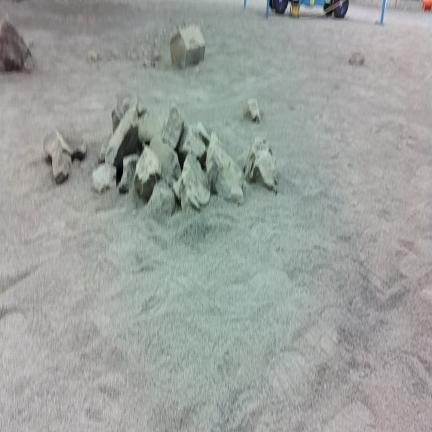Rock: (206, 133, 244, 204), (105, 105, 140, 167), (174, 155, 210, 210), (0, 15, 33, 72), (244, 138, 277, 191), (135, 146, 161, 203), (150, 137, 181, 184), (171, 26, 205, 68), (112, 92, 146, 132), (44, 130, 86, 160), (179, 127, 206, 167), (139, 108, 168, 143), (162, 104, 183, 150), (148, 182, 175, 215), (44, 131, 72, 160), (118, 155, 139, 193), (92, 164, 116, 193), (52, 148, 71, 184), (244, 99, 260, 122), (69, 140, 87, 160), (195, 122, 210, 145), (98, 142, 108, 163), (349, 52, 364, 65), (87, 50, 100, 63), (106, 49, 120, 61), (143, 57, 152, 68)
